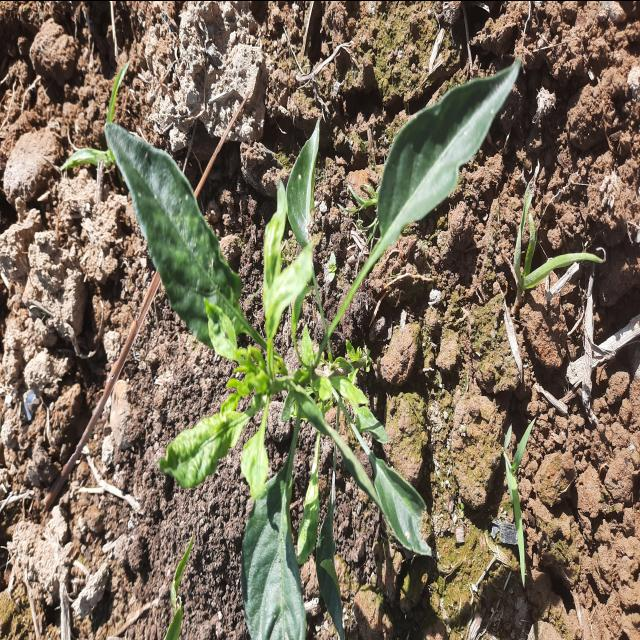virus_kuning: (238, 424, 270, 504)
